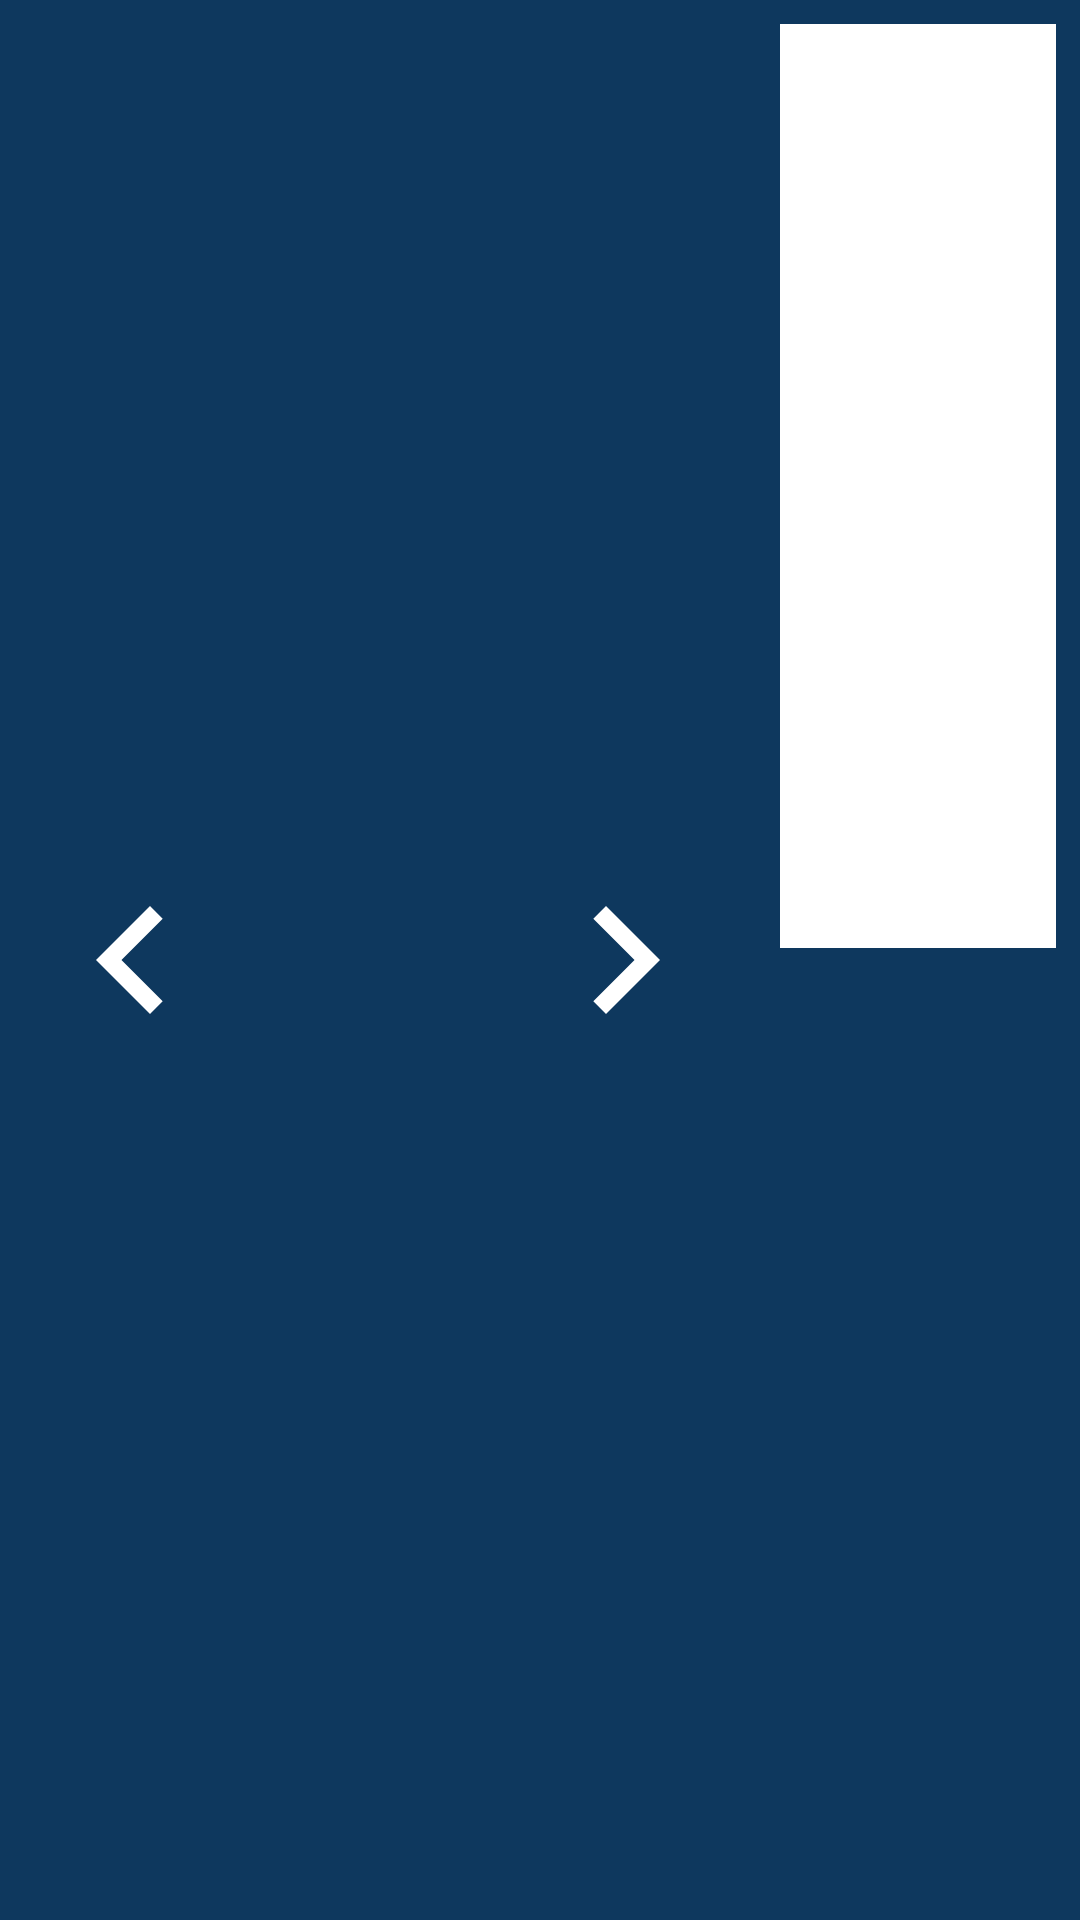

Icons on this 1080 x 1920 Android screen, each with its box as (x1, y1, x2, y2):
left chevron: (96, 906, 163, 1014)
right chevron: (593, 906, 660, 1014)
